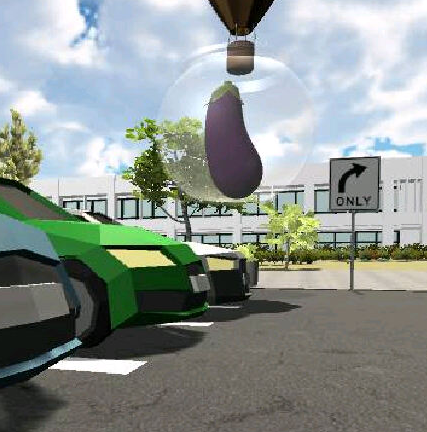arrow_right: (335, 162, 369, 193)
